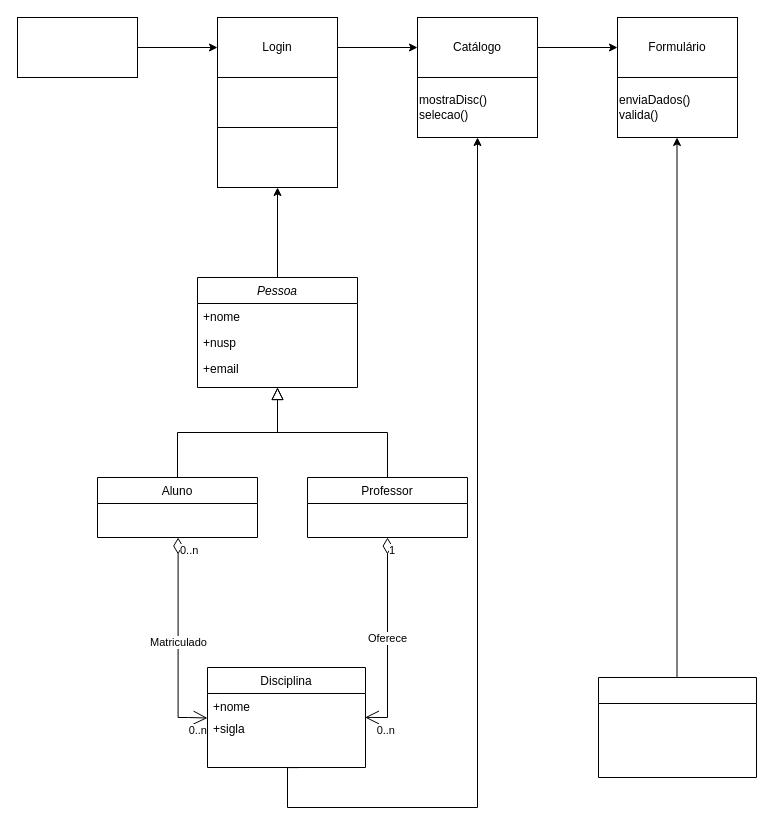
Image size: 774x833. Some labels were removed from this diagram. Here are the shapes that lost their labels. From the top down, the centre of each, then its label:
At (x=77, y=47): "Página Principal".
At (x=277, y=107): "+NUSP +EmailUSP".
At (x=277, y=157): "ValidaEmail() ValidaNUSP()".
At (x=677, y=727): "Questionário".
